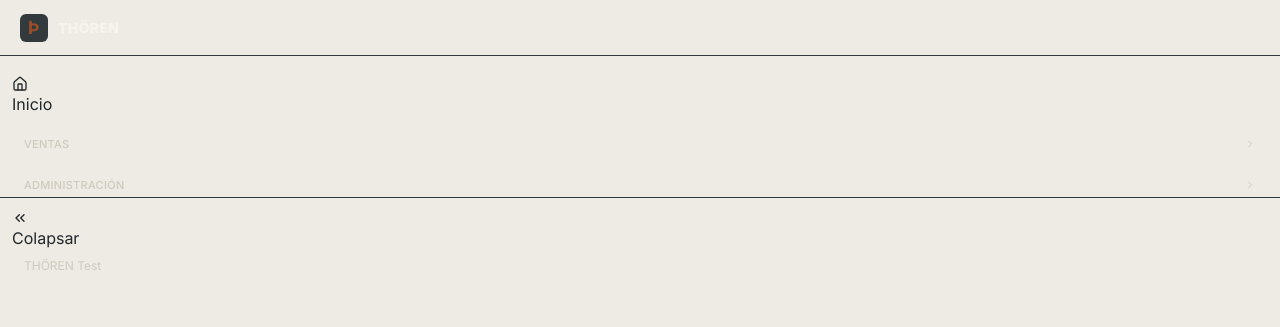
Test case: Sidebar — control de acceso por departamentos (filtro ADITIVO sobre el de siempre) › Inicio/Configuración (sin moduleKey) y Unidades de Negocio nunca se restringen por departamento
Check: the link "Inicio" is shown, box top-left (12, 76), bottom-right (52, 114)
Click the button "Administración" at (74, 184), box top-left (12, 172), bottom-right (1268, 197)
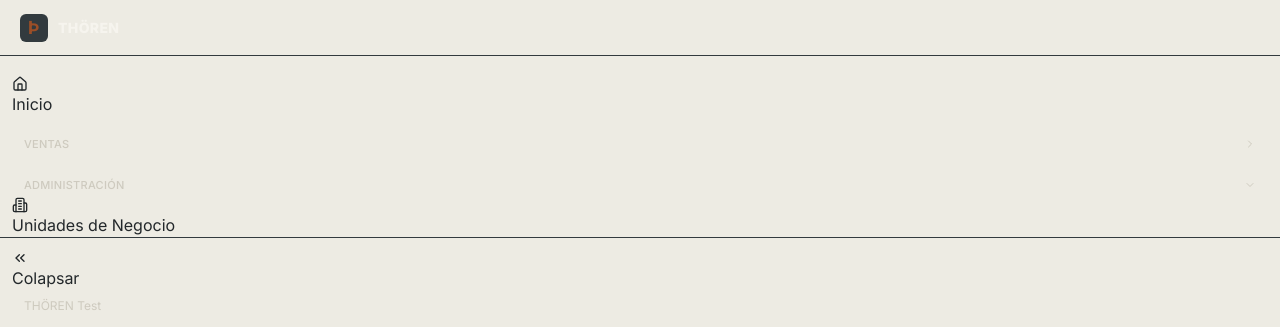
Check: the link "Unidades de Negocio" is shown, box top-left (12, 197), bottom-right (175, 235)
